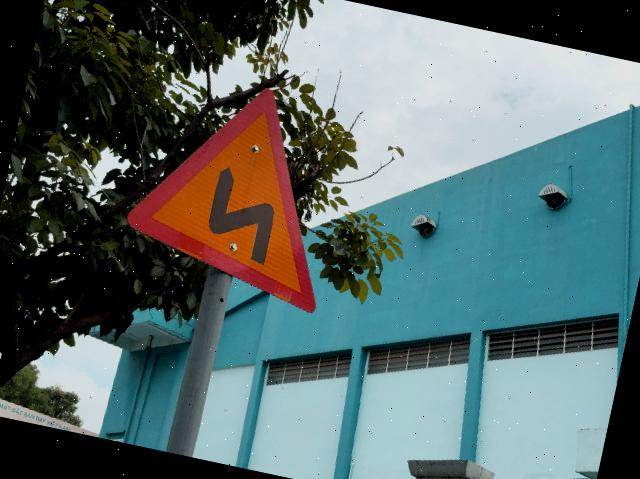nhieu-cho-ngoat-nguy-hiem-lien-tiep: (114, 64, 358, 314)
